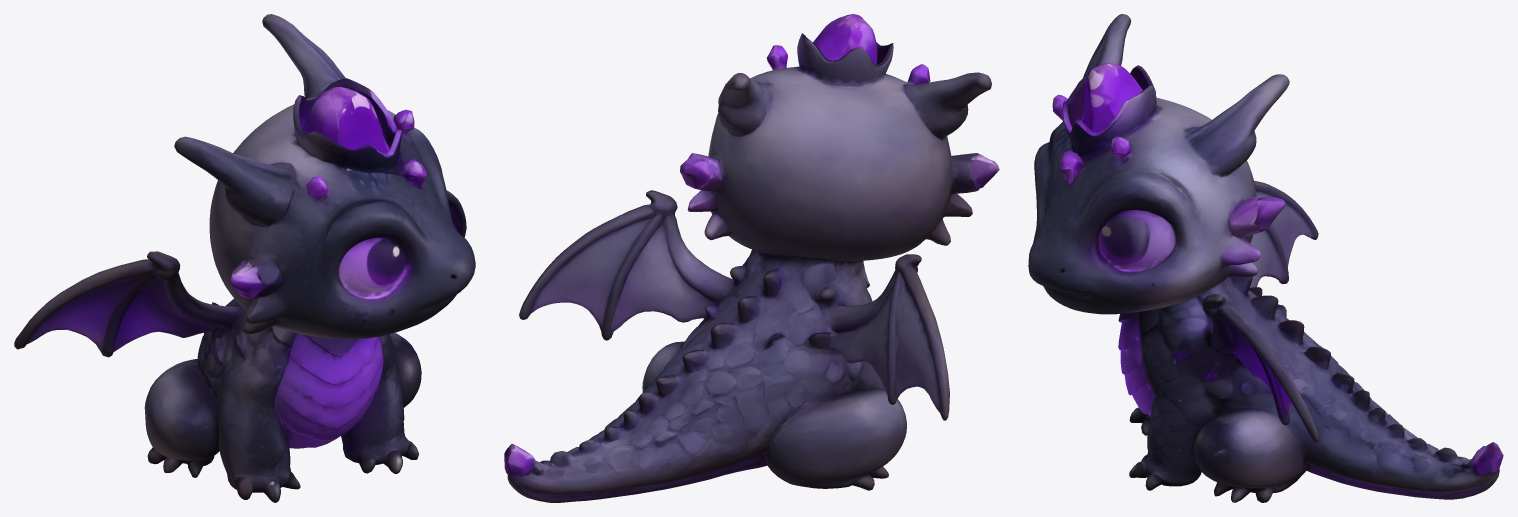
The model's file is baby_dragon_3d_model.fbx.
3 views of the same model, side by side, from view 1: azimuth 30°, elevation 25°; view 2: azimuth 150°, elevation 25°; view 3: azimuth 270°, elevation 25° (orthographic). The views are drawn at different scales.
Parts seen in each view (by area): view 1: tripo_node_e59a9bd8; view 2: tripo_node_e59a9bd8; view 3: tripo_node_e59a9bd8.
Part boxes in pixels (left/top/right/bottom): tripo_node_e59a9bd8: left=14, top=14, right=475, bottom=502; tripo_node_e59a9bd8: left=504, top=14, right=999, bottom=502; tripo_node_e59a9bd8: left=1028, top=14, right=1503, bottom=502.
Bounding box in the file's own units: 1 × 0.8742 × 0.9825.
